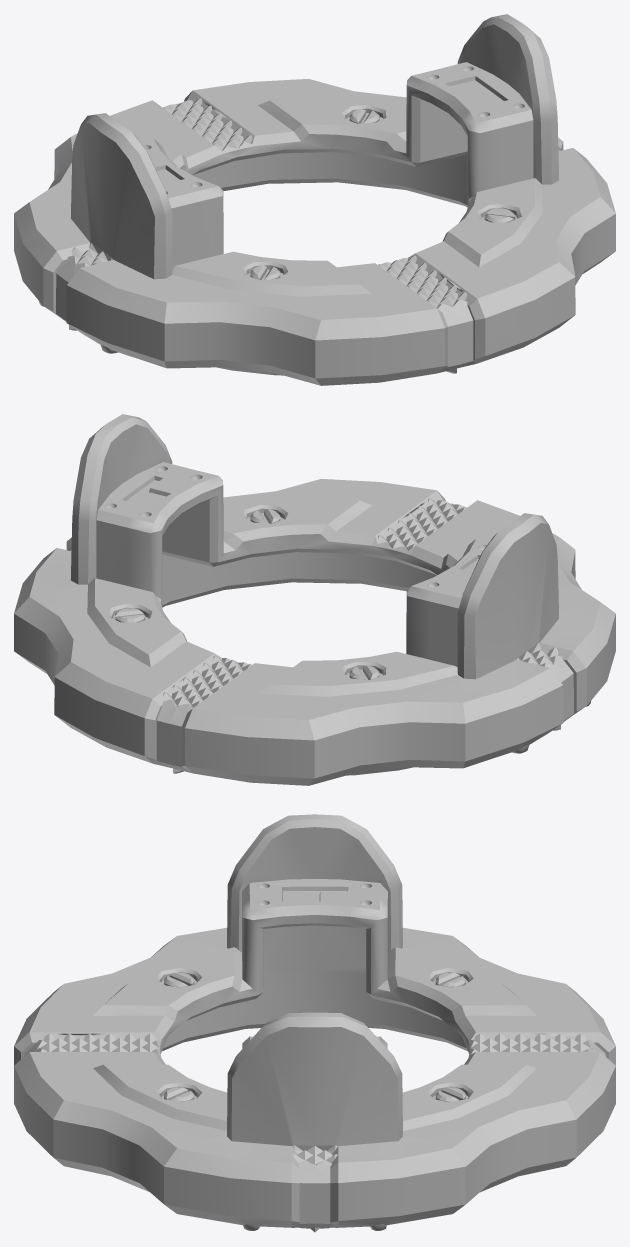
File: Limited.obj
The picture shows the model from 3 angles, top to bottom: view 1: azimuth 30°, elevation 25°; view 2: azimuth 150°, elevation 25°; view 3: azimuth 270°, elevation 25°; orthographic projection.
Visible parts, largest first — view 1: Mesh_0014out; view 2: Mesh_0014out; view 3: Mesh_0014out.
Part boxes in pixels (x1,y1,x2,y2): Mesh_0014out: (14,14,615,385); Mesh_0014out: (14,414,615,785); Mesh_0014out: (14,814,615,1232).
Size of the model in its own units: 0.3888 by 0.145 by 0.3888.
1 material, 1 textured.
